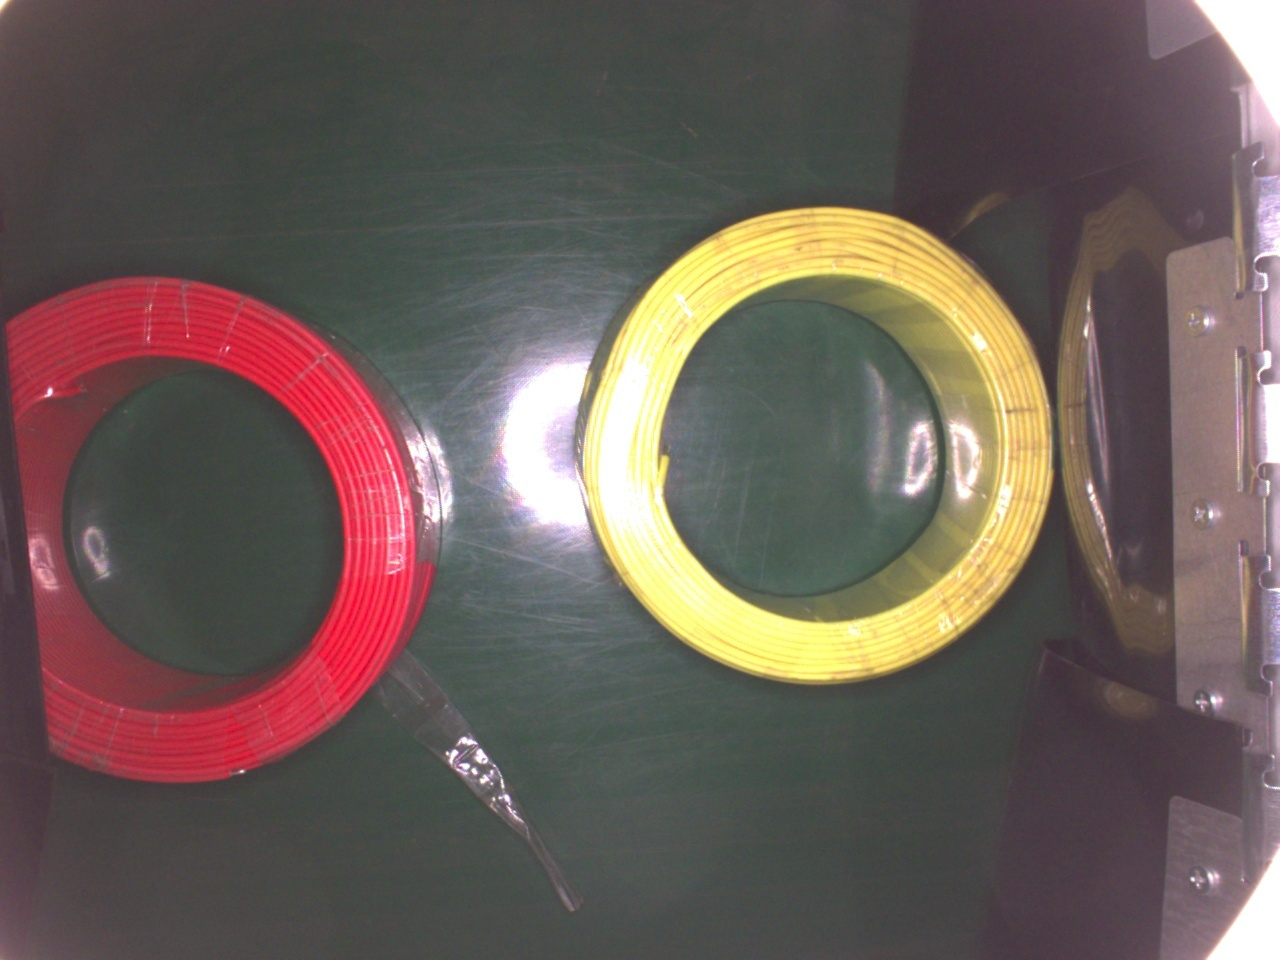red: (0, 274, 438, 786)
yellow: (574, 198, 1065, 682)
